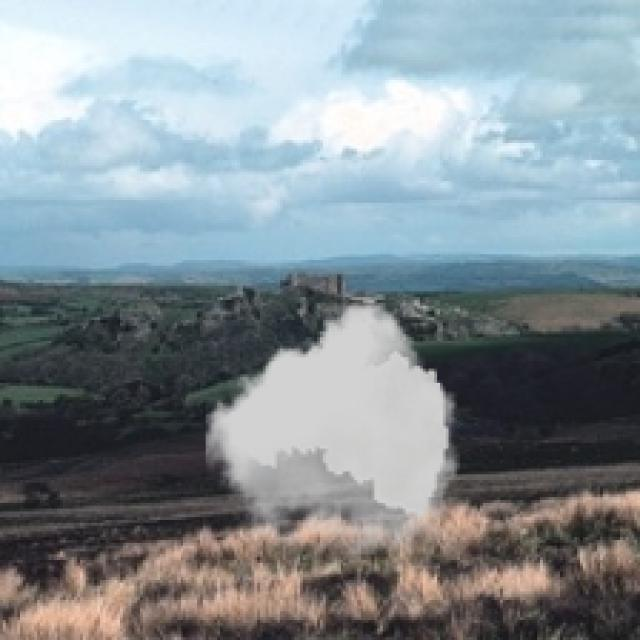Smoke: (205, 302, 460, 554)
